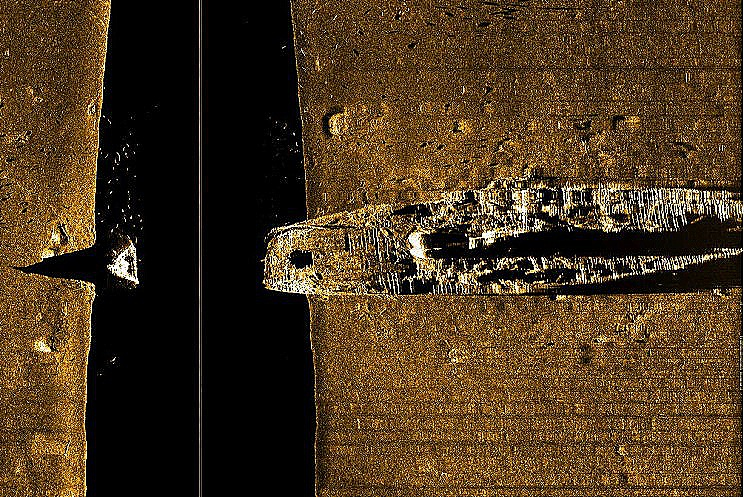ship: (100, 179, 742, 298)
